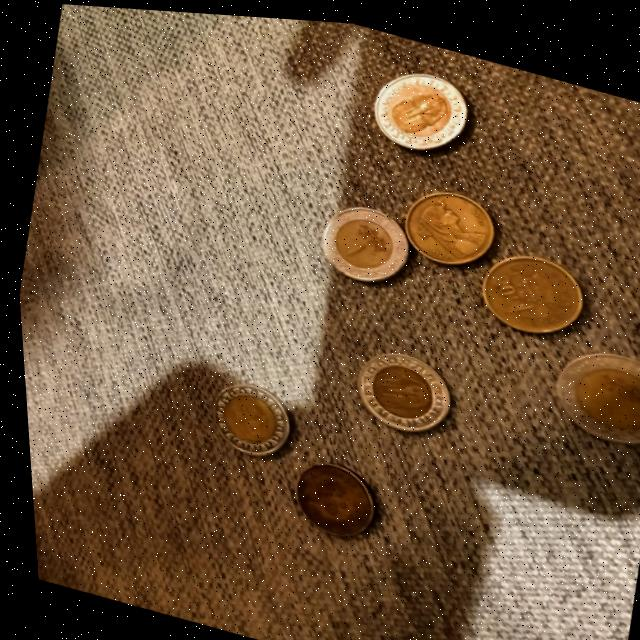Half Pound: (385, 171, 504, 280), (469, 236, 589, 337), (271, 445, 380, 550)
One Pound: (523, 321, 640, 452), (336, 331, 462, 448), (349, 48, 489, 153), (297, 189, 420, 297), (190, 367, 312, 468)
